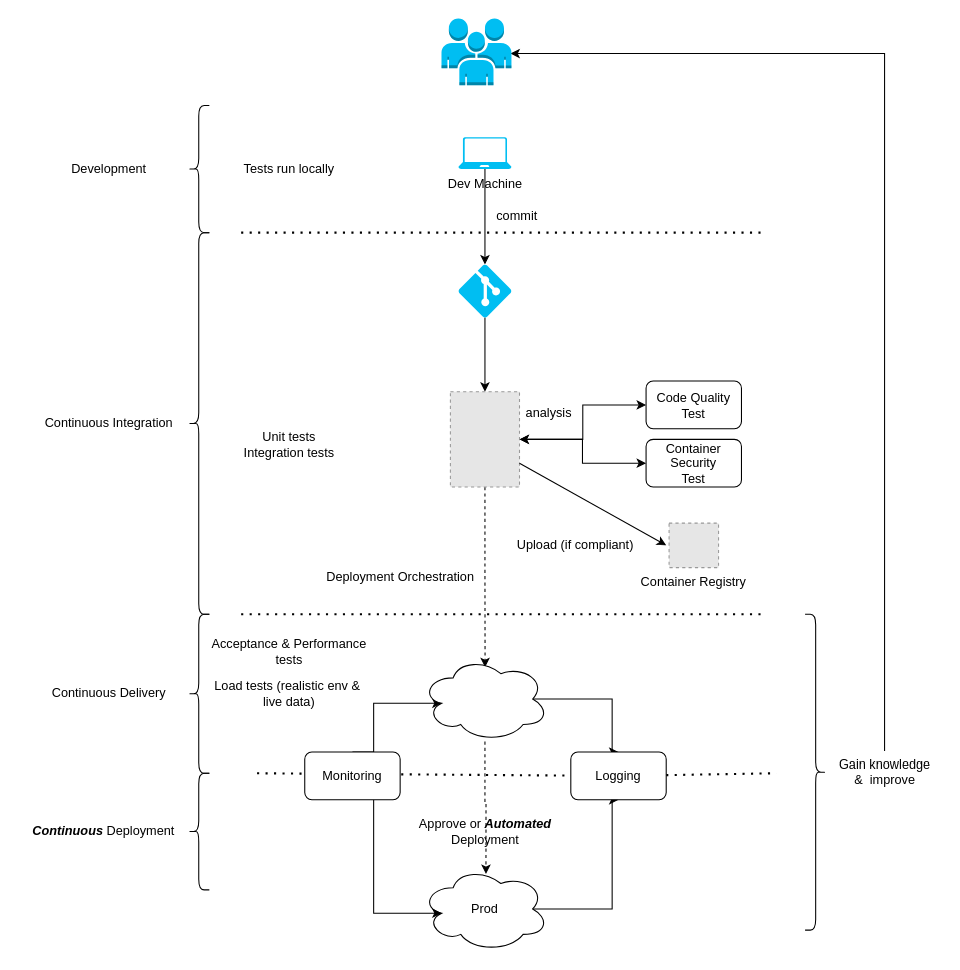
The diagram is 960 pixels wide and 970 high, and some of its shapes have lost their labels. Grey dashed boxes stand in for pictures. The shapes that lost their labels are listed below. From the top down, each one's centre as x and y in pixels, then its label:
At [475,51]: "Engineering & Product & Management".
At [484,290]: "Git Repository".
At [484,698]: "Staging".
